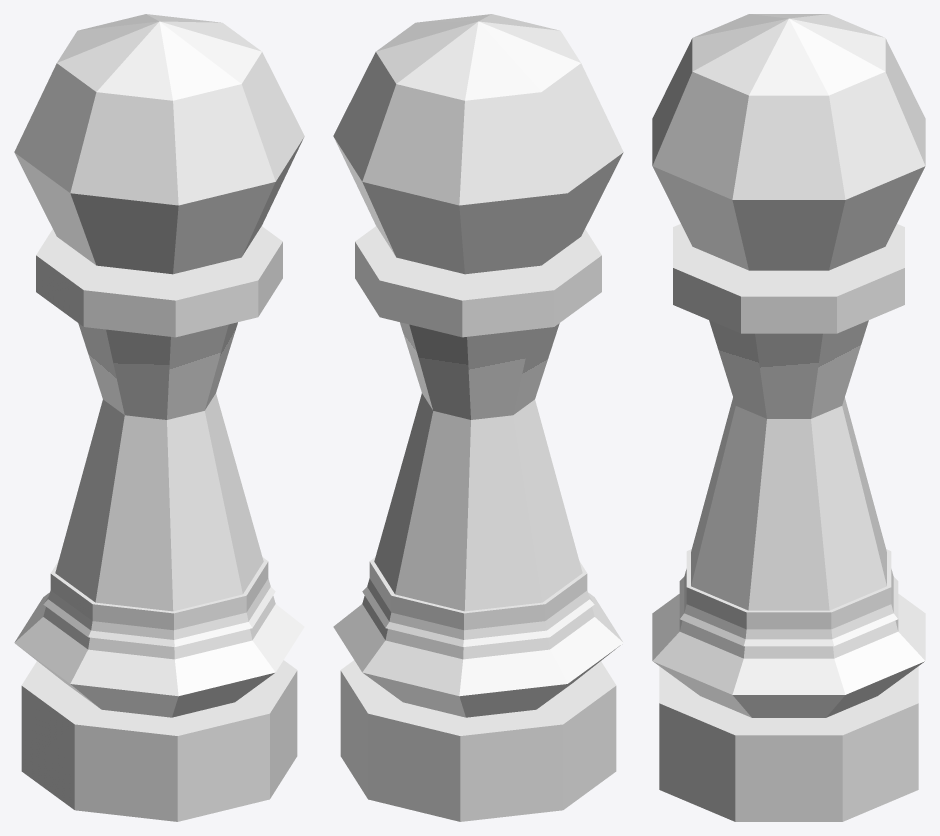
The model's file is chessPiece.fbx.
3 views of the same model, side by side, from view 1: azimuth 30°, elevation 25°; view 2: azimuth 150°, elevation 25°; view 3: azimuth 270°, elevation 25° (orthographic).
Visible parts, largest first — view 1: sphere, cone_3, cylinder_1, cylinder_2, cone, cone_4, cylinder, cone_1, cone_2; view 2: sphere, cone_3, cylinder_1, cylinder_2, cone, cone_4, cylinder, cone_1, cone_2; view 3: sphere, cone_3, cylinder_1, cylinder_2, cone, cone_4, cylinder, cone_1, cone_2.
Boxes of the visible parts, bbox=[...] form: sphere: bbox=[14, 14, 304, 274]; cone_3: bbox=[43, 393, 275, 659]; cylinder_1: bbox=[21, 660, 297, 821]; cylinder_2: bbox=[36, 226, 282, 337]; cone: bbox=[14, 592, 304, 696]; cone_4: bbox=[78, 322, 237, 419]; cylinder: bbox=[50, 557, 268, 630]; cone_1: bbox=[17, 645, 274, 717]; cone_2: bbox=[43, 587, 275, 646]; sphere: bbox=[333, 14, 623, 274]; cone_3: bbox=[362, 393, 594, 659]; cylinder_1: bbox=[340, 660, 616, 821]; cylinder_2: bbox=[355, 226, 601, 337]; cone: bbox=[333, 592, 623, 696]; cone_4: bbox=[400, 322, 559, 419]; cylinder: bbox=[369, 557, 587, 630]; cone_1: bbox=[363, 645, 620, 717]; cone_2: bbox=[362, 587, 594, 646]; sphere: bbox=[652, 14, 925, 270]; cone_3: bbox=[679, 397, 898, 658]; cylinder_1: bbox=[659, 666, 918, 821]; cylinder_2: bbox=[673, 224, 904, 333]; cone: bbox=[652, 594, 925, 694]; cone_4: bbox=[709, 320, 868, 418]; cylinder: bbox=[686, 549, 891, 629]; cone_1: bbox=[653, 661, 924, 717]; cone_2: bbox=[679, 577, 898, 646].
Size of the model in its own units: 12.5 by 37.81 by 12.5.
Materials: 1 (1 with a texture image).
